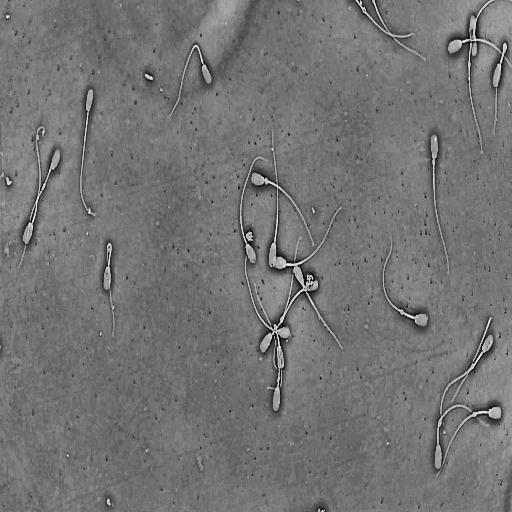dirt-particles: (305, 271, 315, 286), (245, 229, 254, 244), (145, 71, 153, 81), (6, 176, 12, 187), (106, 498, 111, 508)
distal-droplet: (41, 182, 46, 192), (467, 60, 471, 69), (438, 419, 441, 428), (400, 309, 404, 315), (473, 412, 477, 417), (471, 364, 475, 369)
folded-tail: (170, 45, 204, 117), (493, 43, 507, 136), (107, 242, 114, 336), (108, 246, 110, 262)
loose-tail: (448, 314, 494, 406)
normal: (17, 147, 62, 270), (439, 331, 495, 427), (250, 169, 316, 248), (436, 404, 503, 478), (381, 231, 430, 328), (272, 204, 342, 271), (292, 263, 345, 351), (433, 400, 492, 470), (169, 40, 216, 120), (254, 283, 280, 410), (239, 154, 268, 266), (429, 131, 450, 276), (22, 124, 46, 247), (467, 13, 484, 155), (79, 86, 97, 218), (278, 277, 320, 330), (447, 36, 512, 70), (267, 127, 280, 269), (491, 40, 508, 137), (469, 0, 496, 60), (102, 239, 116, 338)
proximal-droplet: (264, 178, 269, 186), (432, 158, 436, 166)
